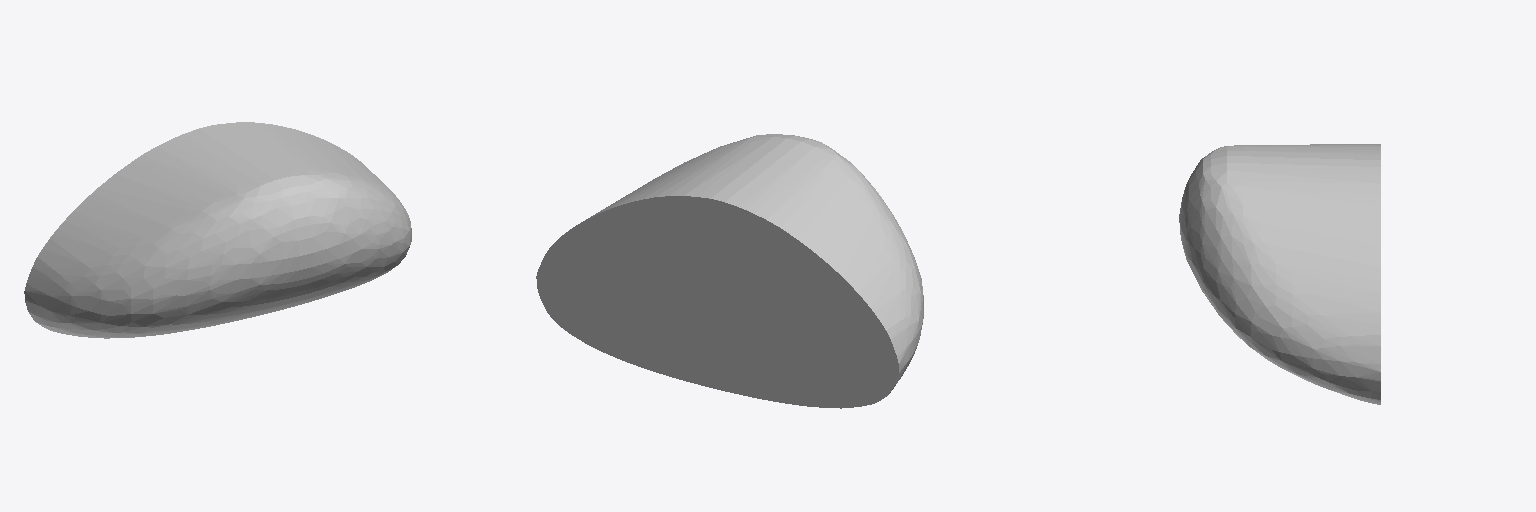
Rendered from duck_collision_5.obj.
3 renders of one model, left to right at view 1: azimuth 30°, elevation 25°; view 2: azimuth 150°, elevation 25°; view 3: azimuth 270°, elevation 25°, orthographic.
Size of the model in its own units: 0.0294 by 0.015 by 0.0141.